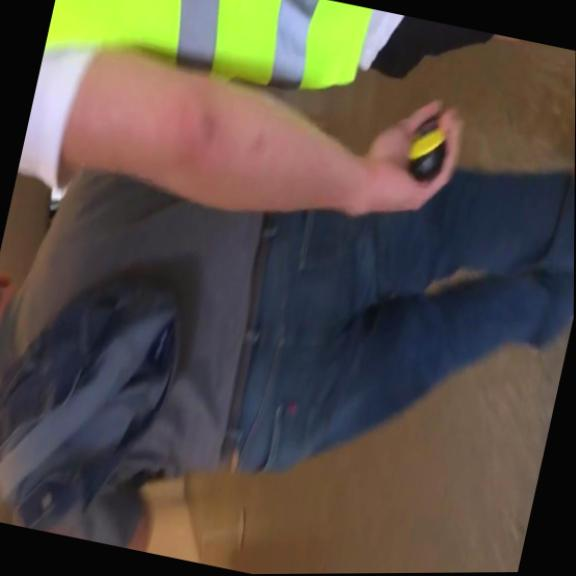safety_vest: (39, 0, 386, 137)
